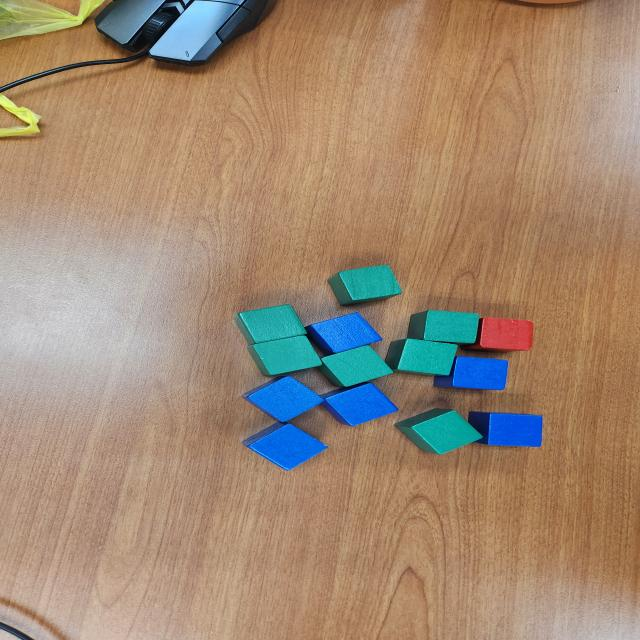blue: (242, 421, 329, 470), (242, 376, 326, 422), (318, 382, 399, 427), (304, 312, 384, 356), (467, 411, 543, 448), (432, 356, 509, 391)
green: (394, 408, 484, 454), (315, 345, 394, 387), (326, 264, 403, 306), (232, 304, 307, 346), (246, 336, 324, 376), (384, 338, 459, 376), (406, 310, 480, 346)
red: (459, 317, 534, 353)
